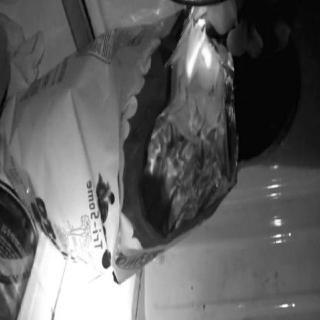Fire: (181, 20, 215, 88)
